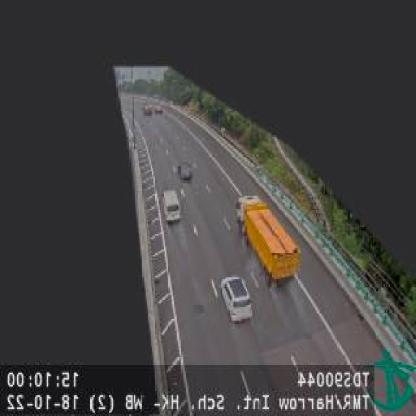Car: (218, 273, 253, 323), (160, 187, 181, 224), (176, 159, 192, 180)
Truck: (238, 195, 300, 286)
